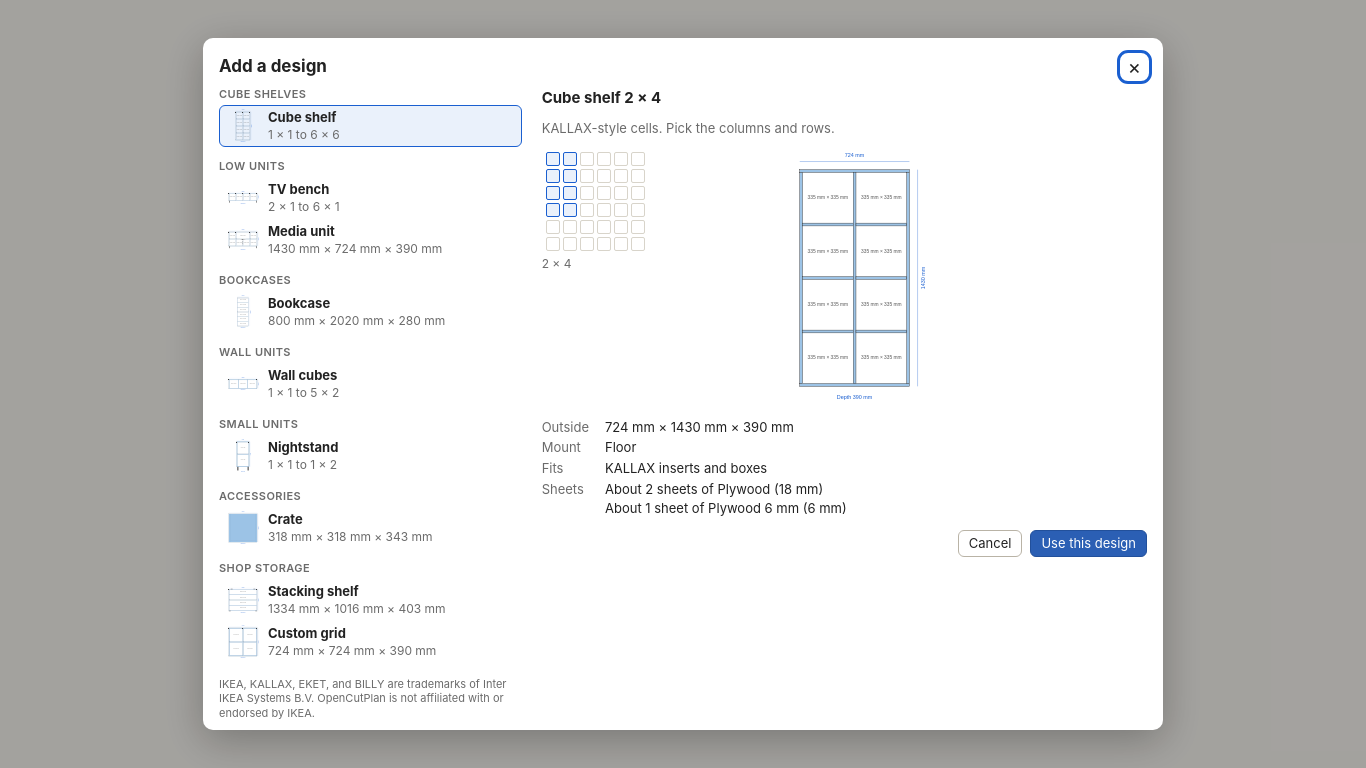
Test: StarterDialog › shows the crate with the KALLAX cells that it fits, and no Mount fact
The image size is (1366, 768).
Click the button "Crate 318 mm × 318 mm × 343 mm". click: (370, 528)
box: [219,507,522,549]
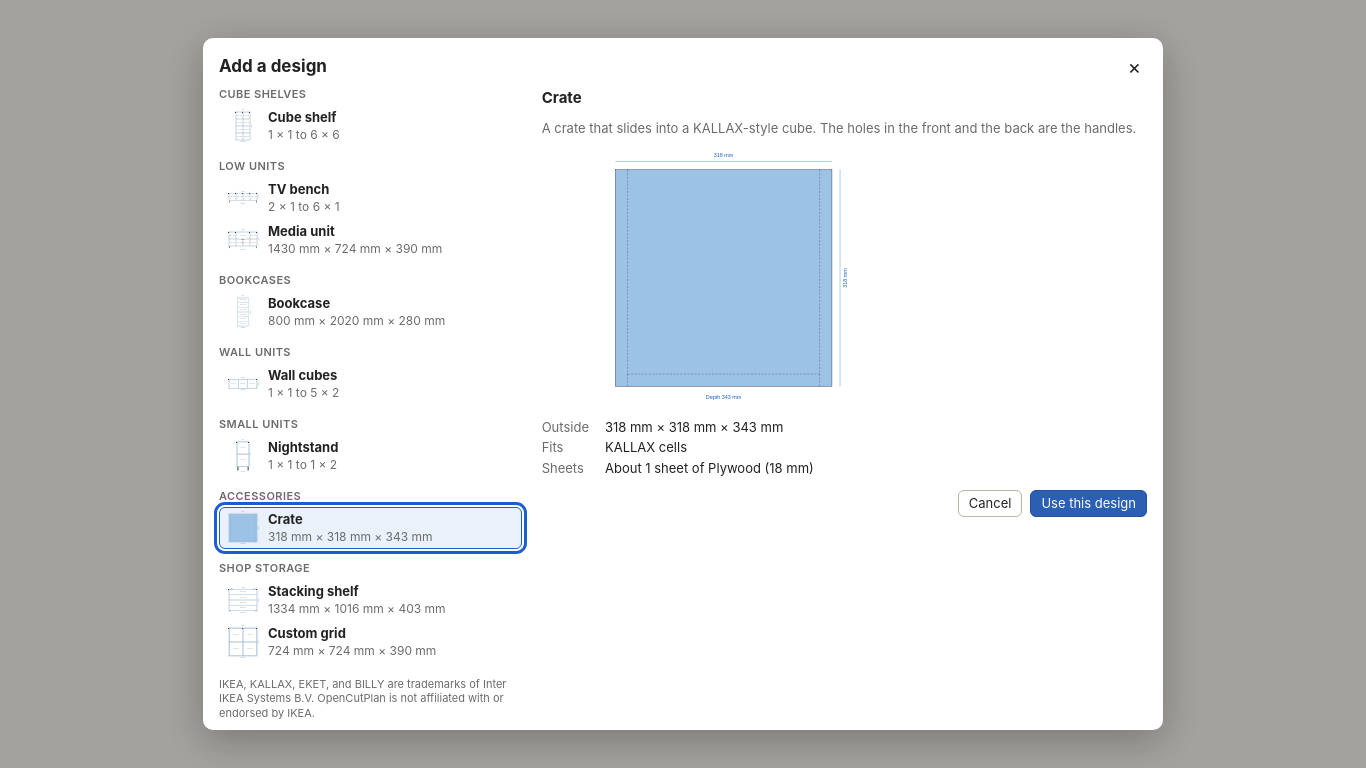
expect the text "Crate" is shown: met, box [268,511,303,527]
expect the text "KALLAX cells" is shown: met, box [605,440,687,456]
expect the text "Mount" is gone: met
